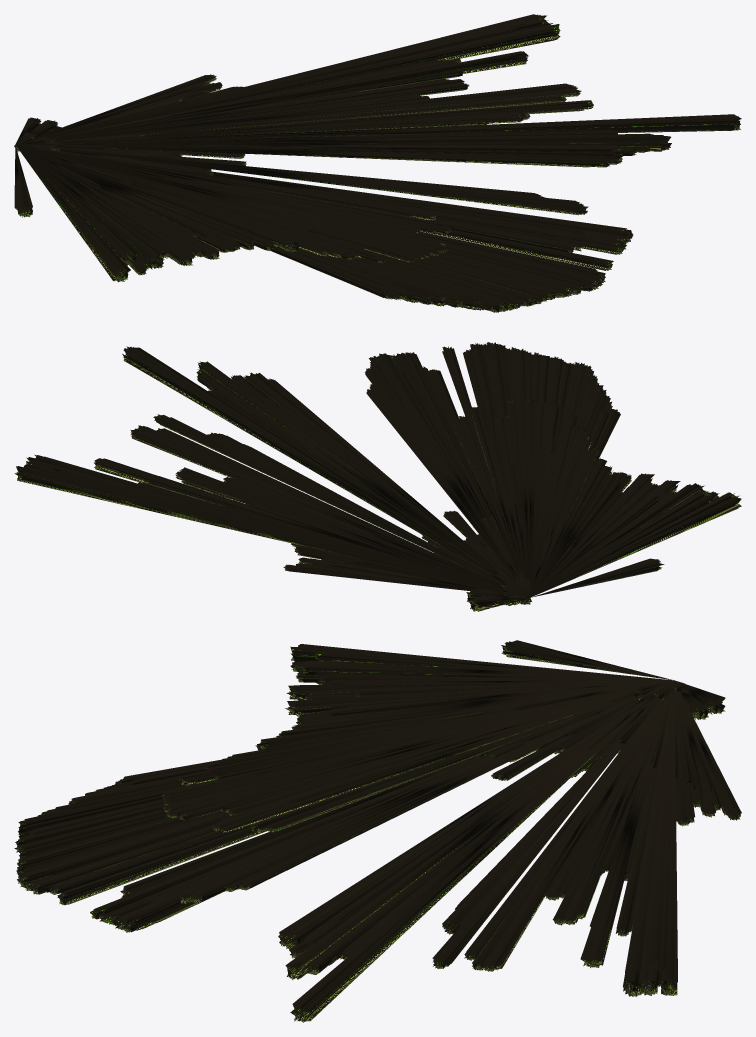
Rendered from weed.dae.
3 renders of one model, top to bottom at view 1: azimuth 30°, elevation 25°; view 2: azimuth 150°, elevation 25°; view 3: azimuth 270°, elevation 25°, orthographic. The views are drawn at different scales.
Visible parts, largest first — view 1: set_weed01-geom-P0; view 2: set_weed01-geom-P0; view 3: set_weed01-geom-P0.
Part boxes in pixels (<box>): set_weed01-geom-P0: <box>14,14,741,312</box>; set_weed01-geom-P0: <box>14,342,741,611</box>; set_weed01-geom-P0: <box>14,640,741,1022</box>.
Bounding box in the file's own units: 104 × 4.49 × 85.48.
